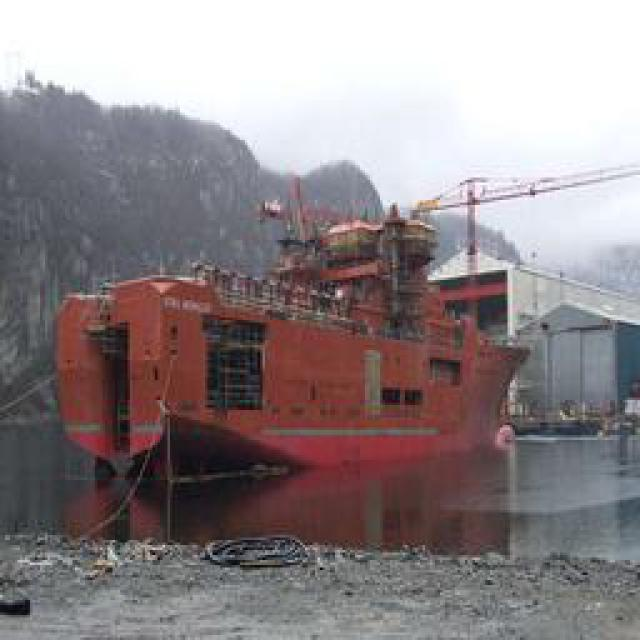Ship: (69, 180, 519, 466)
